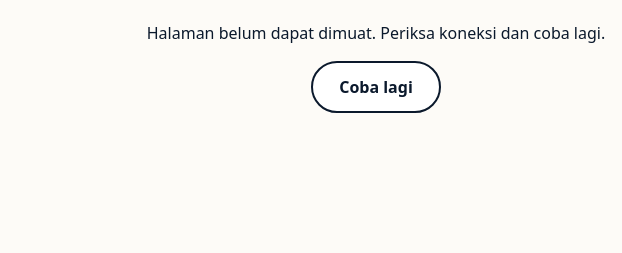
Test: backend failures show a retry action instead of reporting a missing page
Check: the message "Halaman belum dapat dimuat. Periksa koneksi dan coba lagi. Coba lagi" is shown, box 147,22 -> 605,113
Click the button "Coba lagi" at (376, 87), box 311,61 -> 441,113
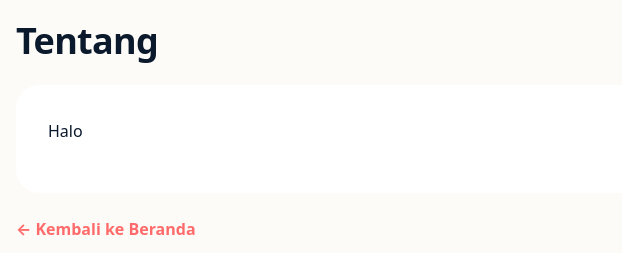
Check: the heading with test id "page-title" reads "Tentang", box 16,16 -> 158,65
